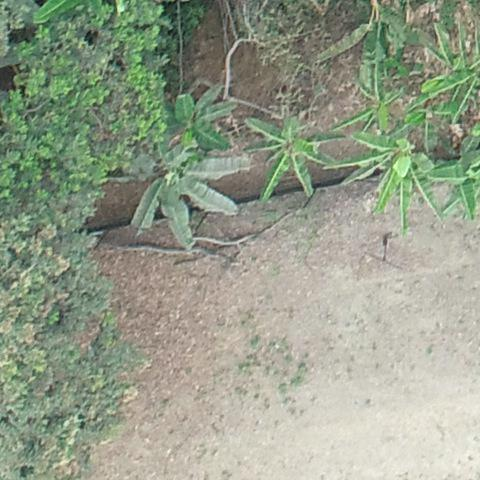Banana-plant: (120, 136, 251, 250), (336, 110, 451, 232), (314, 0, 429, 107), (243, 105, 345, 211), (158, 76, 239, 155)
